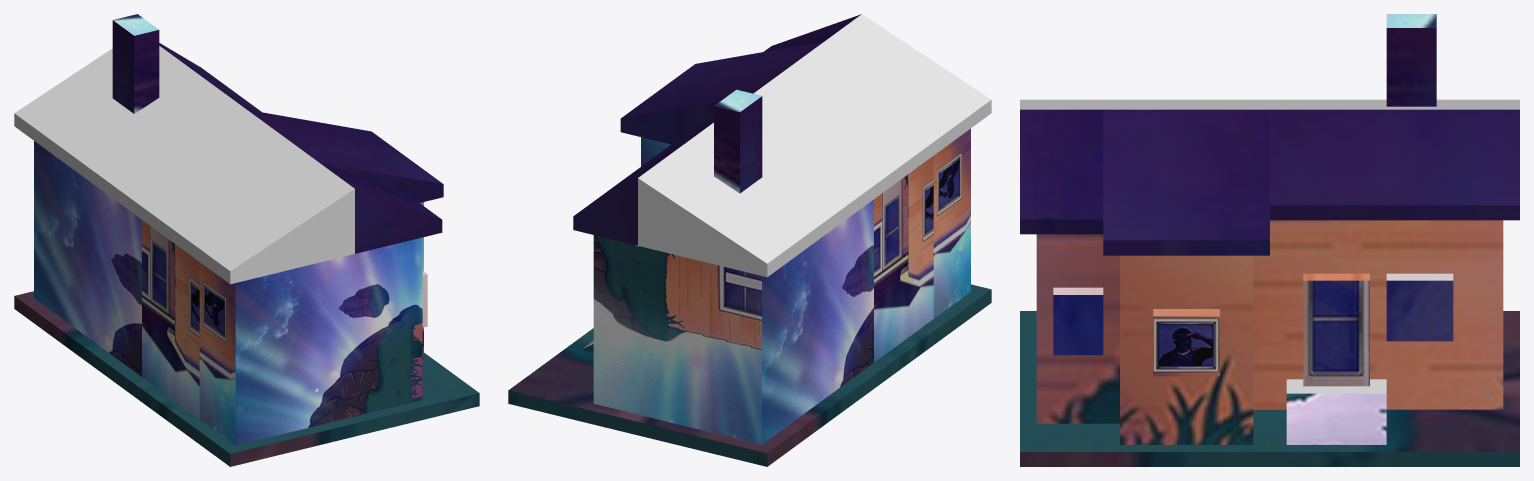
File: house.glb
The picture shows the model from 3 angles, left to right: view 1: azimuth 30°, elevation 25°; view 2: azimuth 150°, elevation 25°; view 3: azimuth 270°, elevation 25°; orthographic projection. The views are drawn at different scales.
Visible parts, largest first — view 1: Cube.232, Cube.241, Cube.234, Cube.240, Cube.231, Cube.242, Cube.233, Cube.237, Cube.239, Cube.244, Cube.238; view 2: Cube.234, Cube.241, Cube.240, Cube.231, Cube.233, Cube.237, Cube.242, Cube.232, Cube.244, Cube.238, Cube.239; view 3: Cube.234, Cube.238, Cube.237, Cube.231, Cube.233, Cube.232, Cube.239, Cube.236, Cube.230, Cube.244, Cube.243, Cube.245 (+5 smaller).
Part boxes in pixels (<box>): Cube.232: <box>199,237,422,445</box>; Cube.241: <box>14,46,246,204</box>; Cube.234: <box>34,141,141,376</box>; Cube.240: <box>122,110,318,257</box>; Cube.231: <box>14,291,479,466</box>; Cube.242: <box>194,162,354,284</box>; Cube.233: <box>142,202,423,418</box>; Cube.237: <box>247,109,443,202</box>; Cube.239: <box>319,162,442,253</box>; Cube.244: <box>112,14,159,113</box>; Cube.238: <box>159,43,261,112</box>; Cube.234: <box>593,199,873,444</box>; Cube.241: <box>638,104,879,277</box>; Cube.240: <box>753,41,953,194</box>; Cube.231: <box>508,284,991,466</box>; Cube.233: <box>641,137,933,362</box>; Cube.237: <box>620,41,824,144</box>; Cube.242: <box>825,14,991,140</box>; Cube.232: <box>933,128,970,318</box>; Cube.244: <box>714,89,762,193</box>; Cube.238: <box>573,117,713,245</box>; Cube.239: <box>764,14,861,51</box>; Cube.234: <box>1253,220,1503,409</box>; Cube.238: <box>1270,109,1519,220</box>; Cube.237: <box>1103,109,1269,255</box>; Cube.231: <box>1020,311,1519,466</box>; Cube.233: <box>1120,255,1253,444</box>; Cube.232: <box>1036,234,1119,423</box>; Cube.239: <box>1020,109,1103,234</box>; Cube.236: <box>1303,273,1369,386</box>; Cube.230: <box>1286,393,1386,444</box>; Cube.244: <box>1386,14,1436,106</box>; Cube.243: <box>1386,273,1453,341</box>; Cube.245: <box>1153,309,1219,376</box>.
Size of the model in its own units: 20 by 23 by 30.
13 materials, 13 textured.
